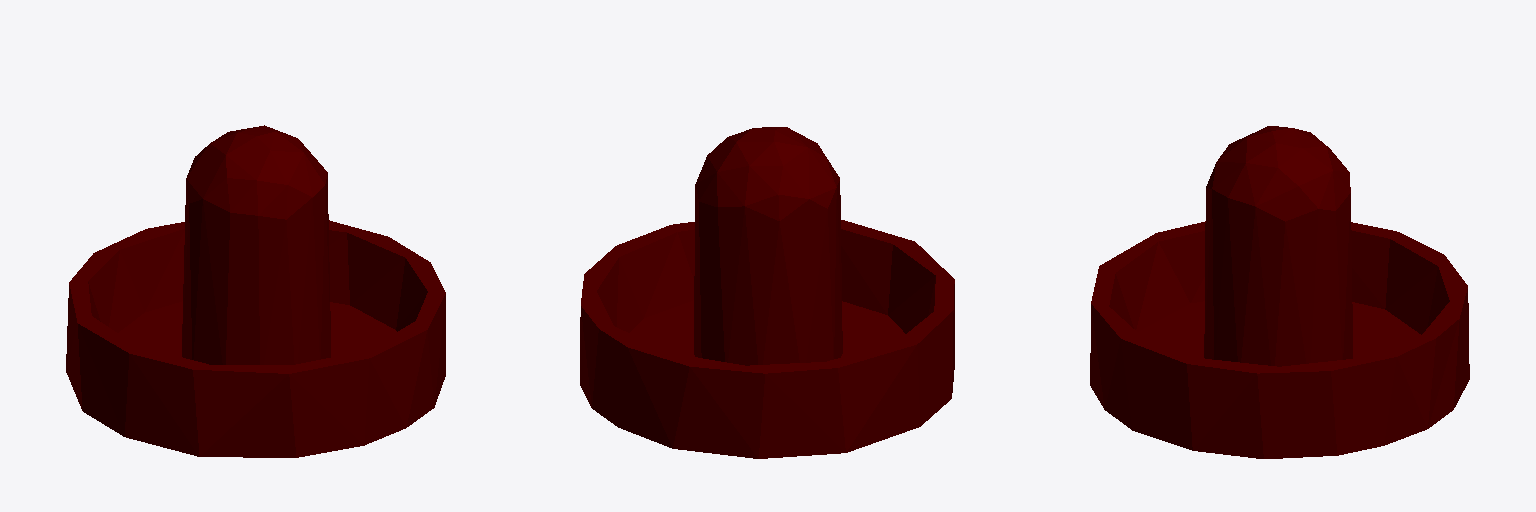
File: Paddle_LowRes.obj
3 views of the same model, side by side, from view 1: azimuth 30°, elevation 25°; view 2: azimuth 150°, elevation 25°; view 3: azimuth 270°, elevation 25° (orthographic).
Parts seen in each view (by area): view 1: Mesh_Cylinder; view 2: Mesh_Cylinder; view 3: Mesh_Cylinder.
Part boxes in pixels (left/top/right/bottom): Mesh_Cylinder: left=66, top=125, right=445, bottom=457; Mesh_Cylinder: left=580, top=127, right=954, bottom=458; Mesh_Cylinder: left=1090, top=126, right=1469, bottom=458.
Size of the model in its own units: 2 by 1.44 by 2.01.